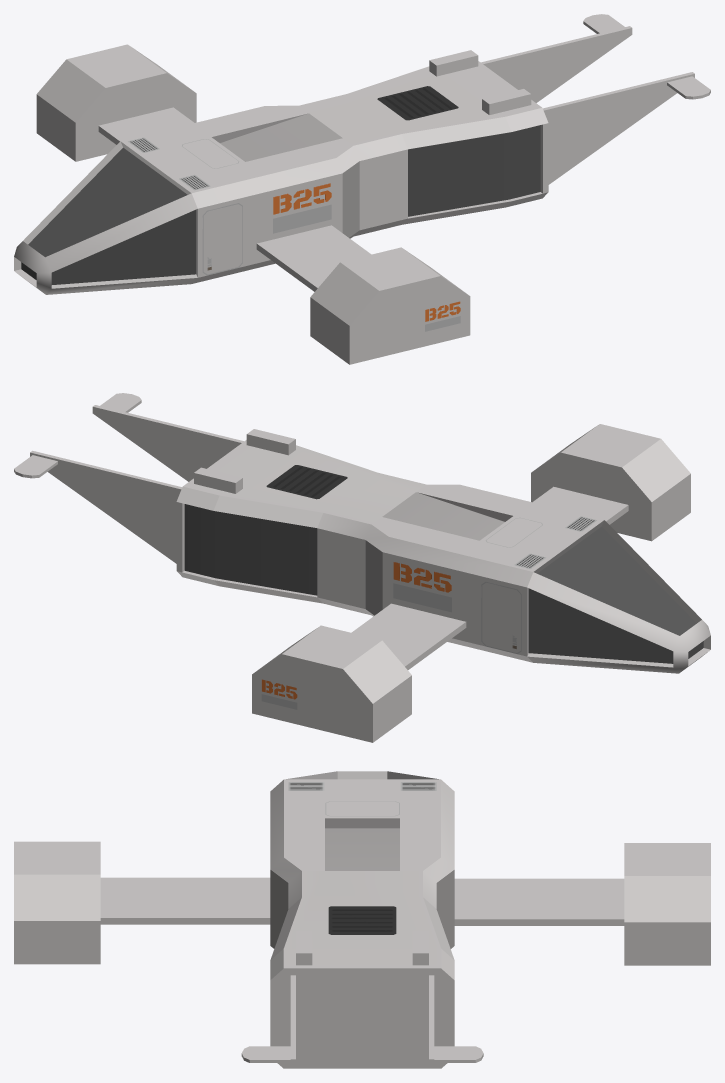
Rendered from ftransport.fbx.
The picture shows the model from 3 angles, top to bottom: view 1: azimuth 30°, elevation 25°; view 2: azimuth 150°, elevation 25°; view 3: azimuth 270°, elevation 25°; orthographic projection. The views are drawn at different scales.
Visible parts, largest first — view 1: ftransport; view 2: ftransport; view 3: ftransport.
Boxes of the visible parts, box(x1,y1,x2,y2) form: ftransport: box(14, 14, 710, 364); ftransport: box(14, 393, 710, 742); ftransport: box(14, 771, 710, 1068).
Size of the model in its own units: 26.19 by 4 by 22.46.
